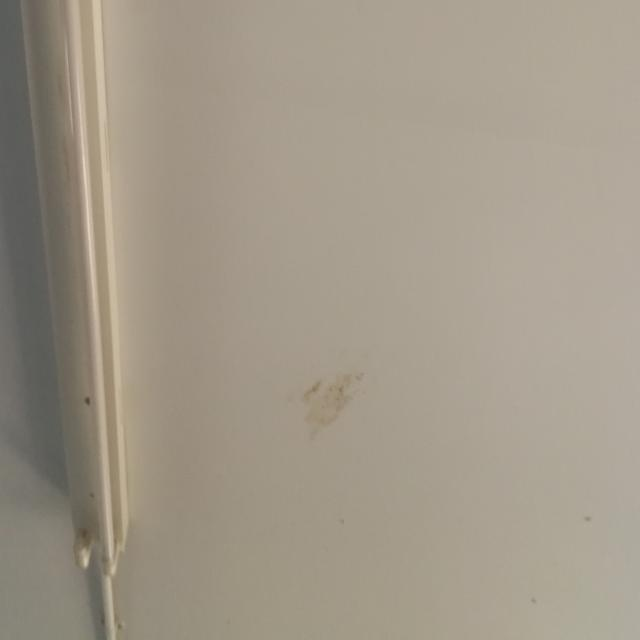fluorescent tube: (0, 0, 145, 588)
